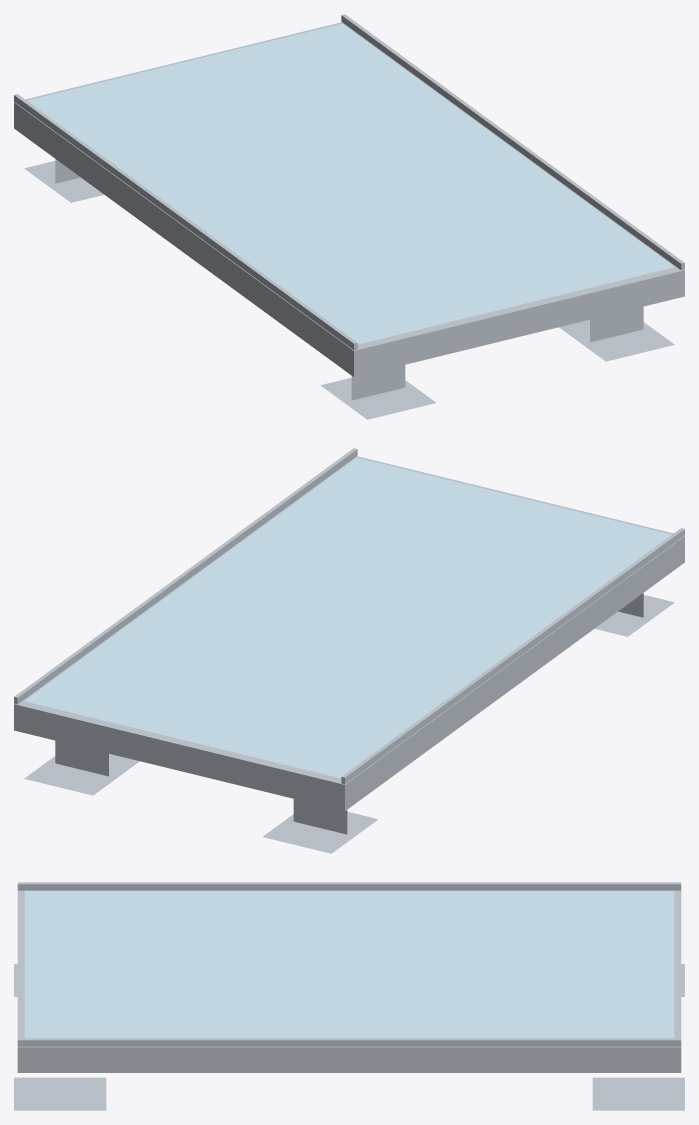
Rendered from SM_MPR3_SolarBank_00_1.fbx.
3 renders of one model, top to bottom at view 1: azimuth 30°, elevation 25°; view 2: azimuth 150°, elevation 25°; view 3: azimuth 270°, elevation 25°, orthographic. The views are drawn at different scales.
Parts seen in each view (by area): view 1: SM_MPR3_SolarBank_00_1; view 2: SM_MPR3_SolarBank_00_1; view 3: SM_MPR3_SolarBank_00_1.
Boxes of the visible parts, left/top/right/bottom form: SM_MPR3_SolarBank_00_1: left=14, top=14, right=684, bottom=419; SM_MPR3_SolarBank_00_1: left=14, top=448, right=684, bottom=853; SM_MPR3_SolarBank_00_1: left=14, top=882, right=684, bottom=1110.
Size of the model in its own units: 105 by 189 by 23.6.
